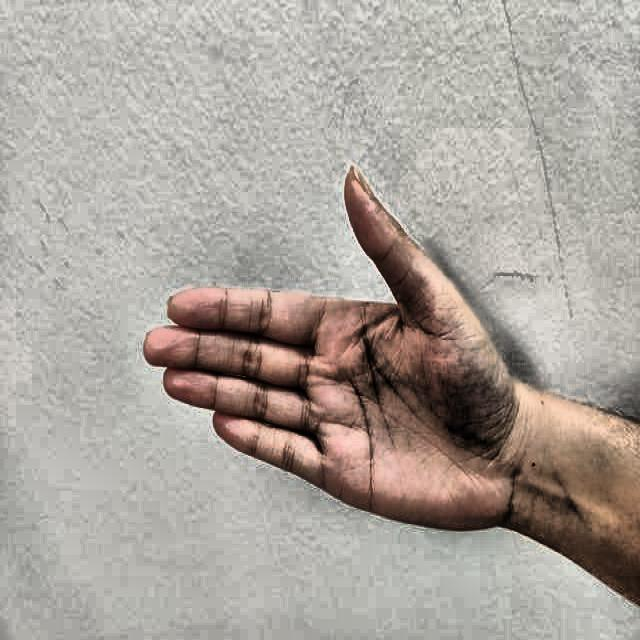Aa: (117, 142, 513, 559)
